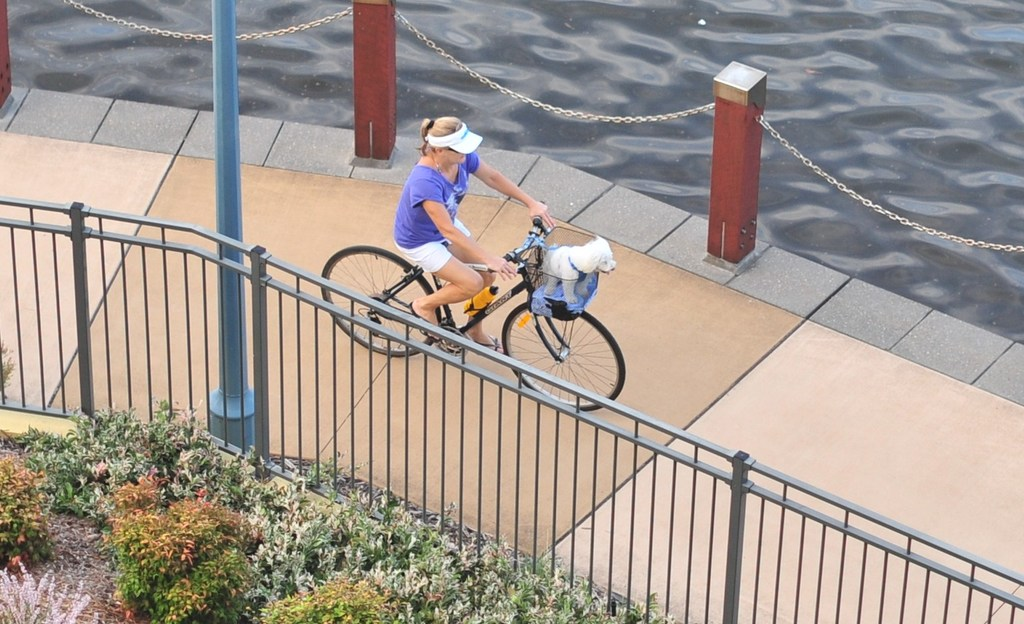Bike_toward: (297, 209, 636, 445)
